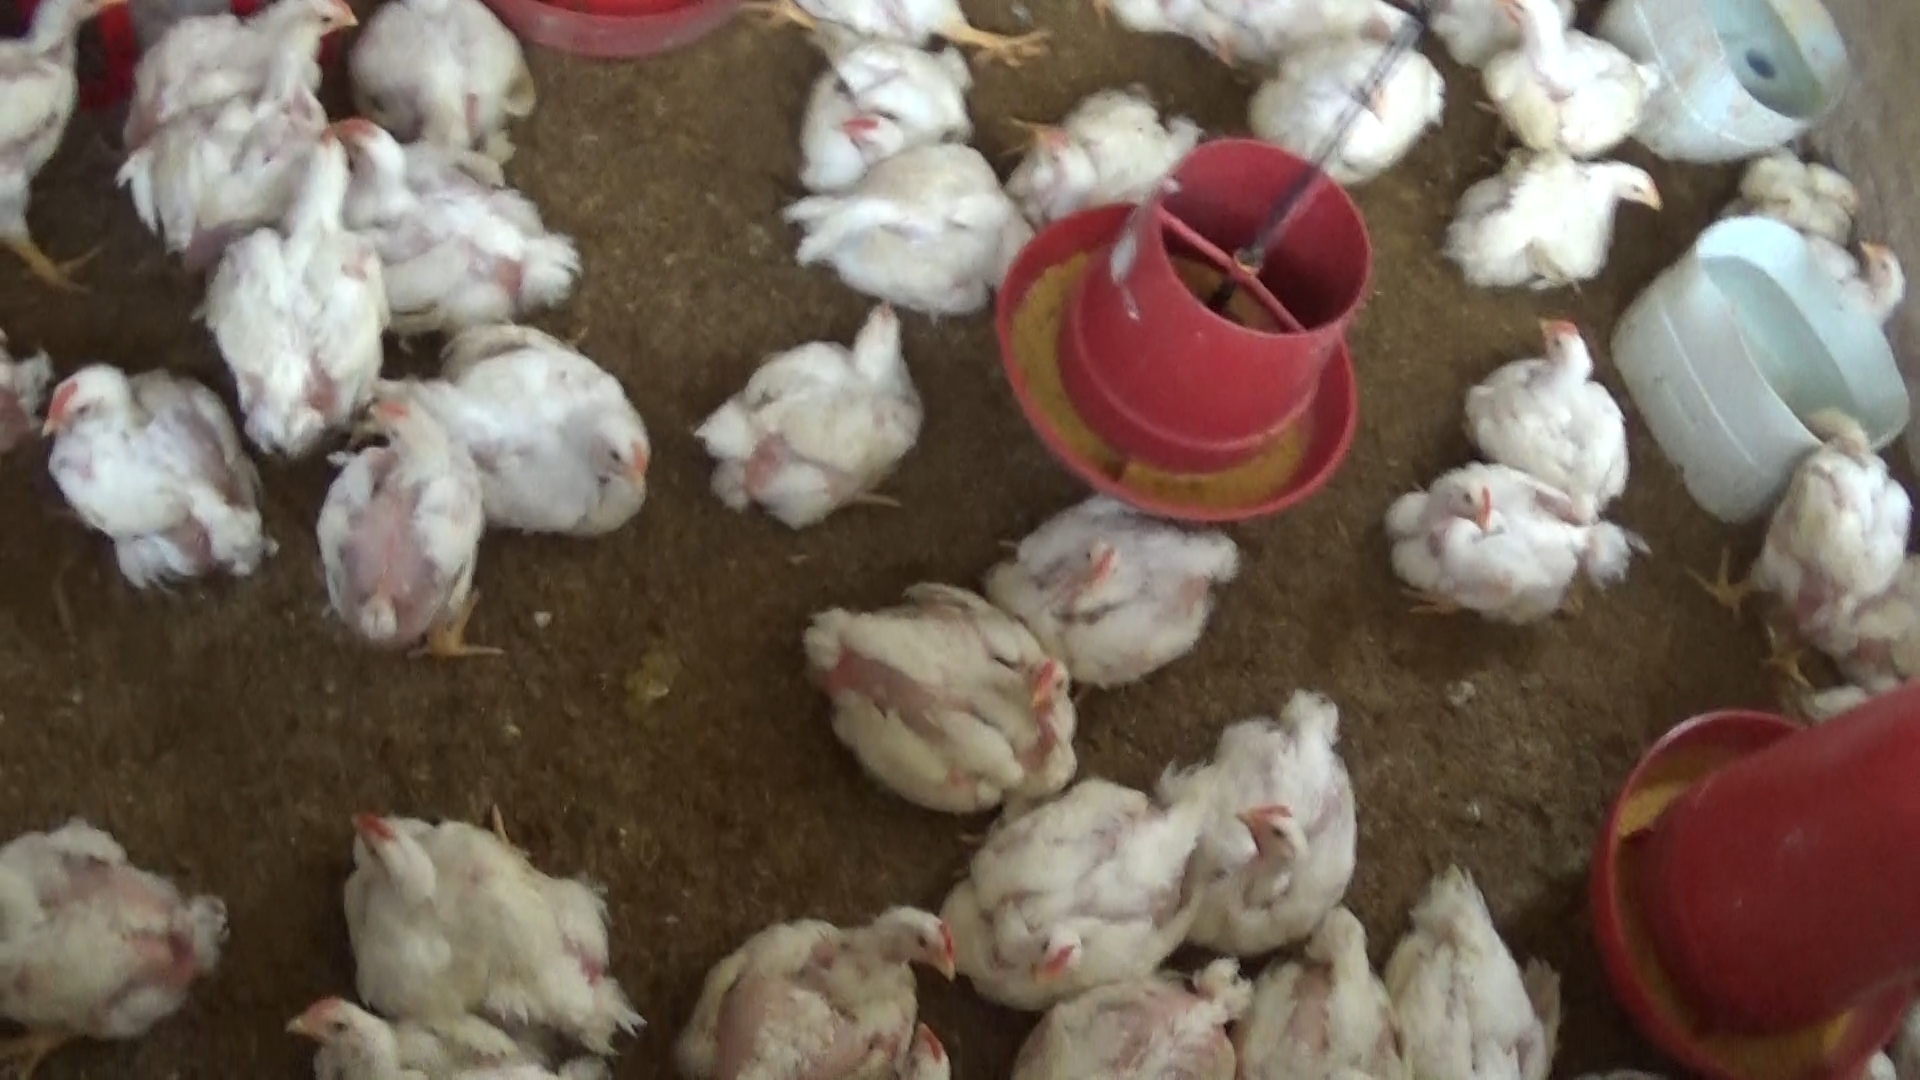Pollos: (322, 800, 653, 1040), (779, 564, 1077, 825), (196, 127, 400, 462), (37, 345, 281, 607), (0, 812, 237, 1080), (309, 368, 496, 688), (938, 773, 1212, 984), (1692, 392, 1911, 655), (417, 323, 662, 558), (145, 0, 371, 252), (680, 889, 975, 1080), (711, 291, 936, 535), (353, 105, 596, 316), (1176, 674, 1364, 928), (800, 142, 1042, 327), (1440, 311, 1651, 520), (0, 0, 145, 295), (1391, 454, 1629, 628), (1015, 487, 1222, 674), (1433, 131, 1685, 284), (1465, 0, 1651, 179), (262, 978, 580, 1080), (988, 92, 1203, 232), (1396, 873, 1542, 1080), (791, 26, 988, 175), (1001, 957, 1250, 1073), (1253, 40, 1437, 187), (1241, 911, 1404, 1077), (1815, 207, 1920, 316)
